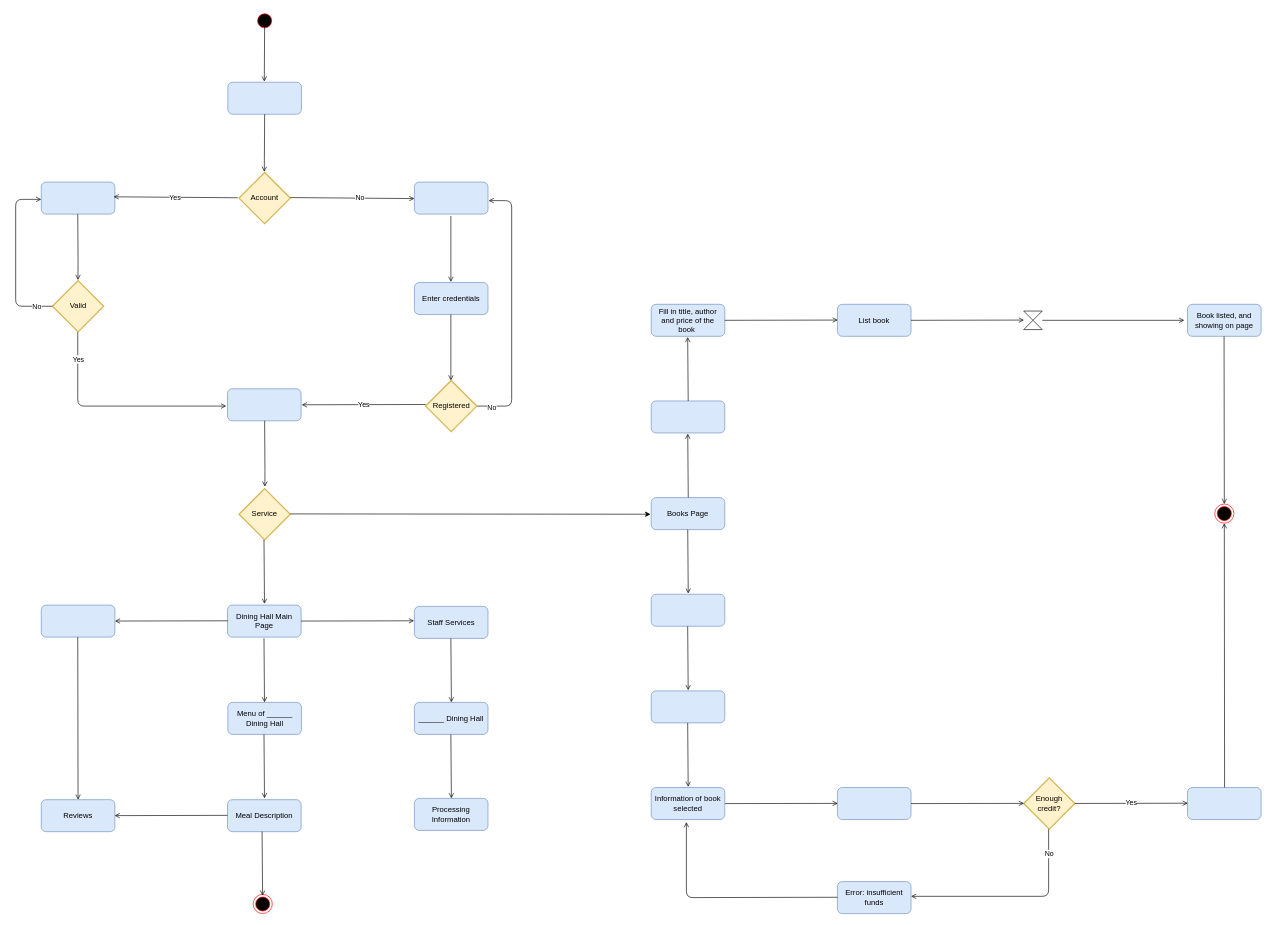
Some shapes in this 1272 by 925 pixel diagram are drawn without their labels. The shapes that lost their labels are listed below. From the top down, each one's centre as x and y in pixels, then its label:
At (264,98): "Splash Screen".
At (78,197): "Login Page".
At (451,197): "Registration Page".
At (264,404): "Home Page".
At (688,416): "Sell book".
At (78,620): "My Recent Orders".
At (688,610): "Search book".
At (688,706): "Display search results".
At (874,803): "Purchase book".
At (1224,803): "Transaction processed and completed".
